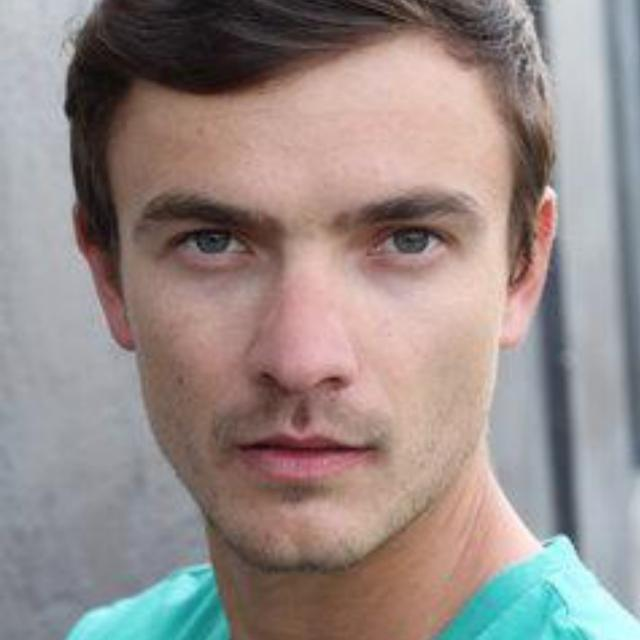Natural: (91, 115, 574, 608)
